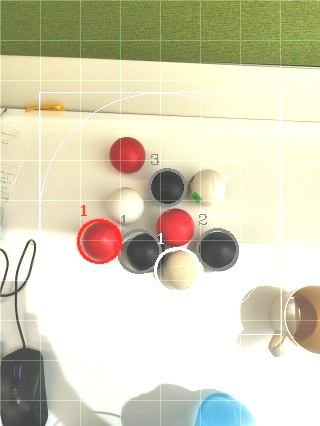Pelota blanca: (119, 382, 203, 425), (284, 284, 320, 355), (193, 390, 262, 425), (153, 246, 203, 291), (185, 166, 227, 206), (106, 185, 145, 227), (265, 334, 297, 357)
Pelota negra: (193, 390, 262, 425), (196, 225, 241, 272), (116, 228, 158, 275), (148, 166, 185, 206)
Pelota roja: (74, 217, 123, 264), (153, 206, 195, 246), (108, 134, 147, 174)
